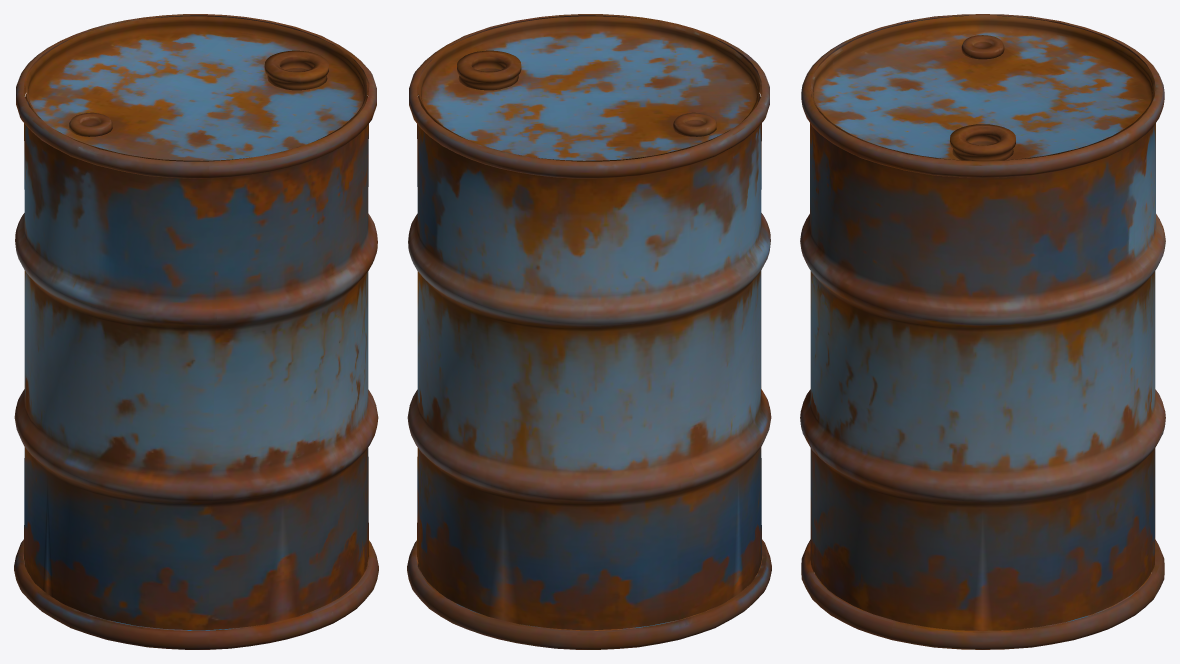
Rendered from rusty_oil_barrel_a1ef5c6b_v3.glb.
The picture shows the model from 3 angles, left to right: view 1: azimuth 30°, elevation 25°; view 2: azimuth 150°, elevation 25°; view 3: azimuth 270°, elevation 25°; orthographic projection.
Visible parts, largest first — view 1: material; view 2: material; view 3: material.
Boxes of the visible parts, box(x1,y1,x2,y2) form: material: box(14, 14, 378, 649); material: box(407, 14, 771, 649); material: box(800, 14, 1165, 649).
Size of the model in its own units: 1.28 by 1.9 by 1.29.
1 material, 1 textured.
